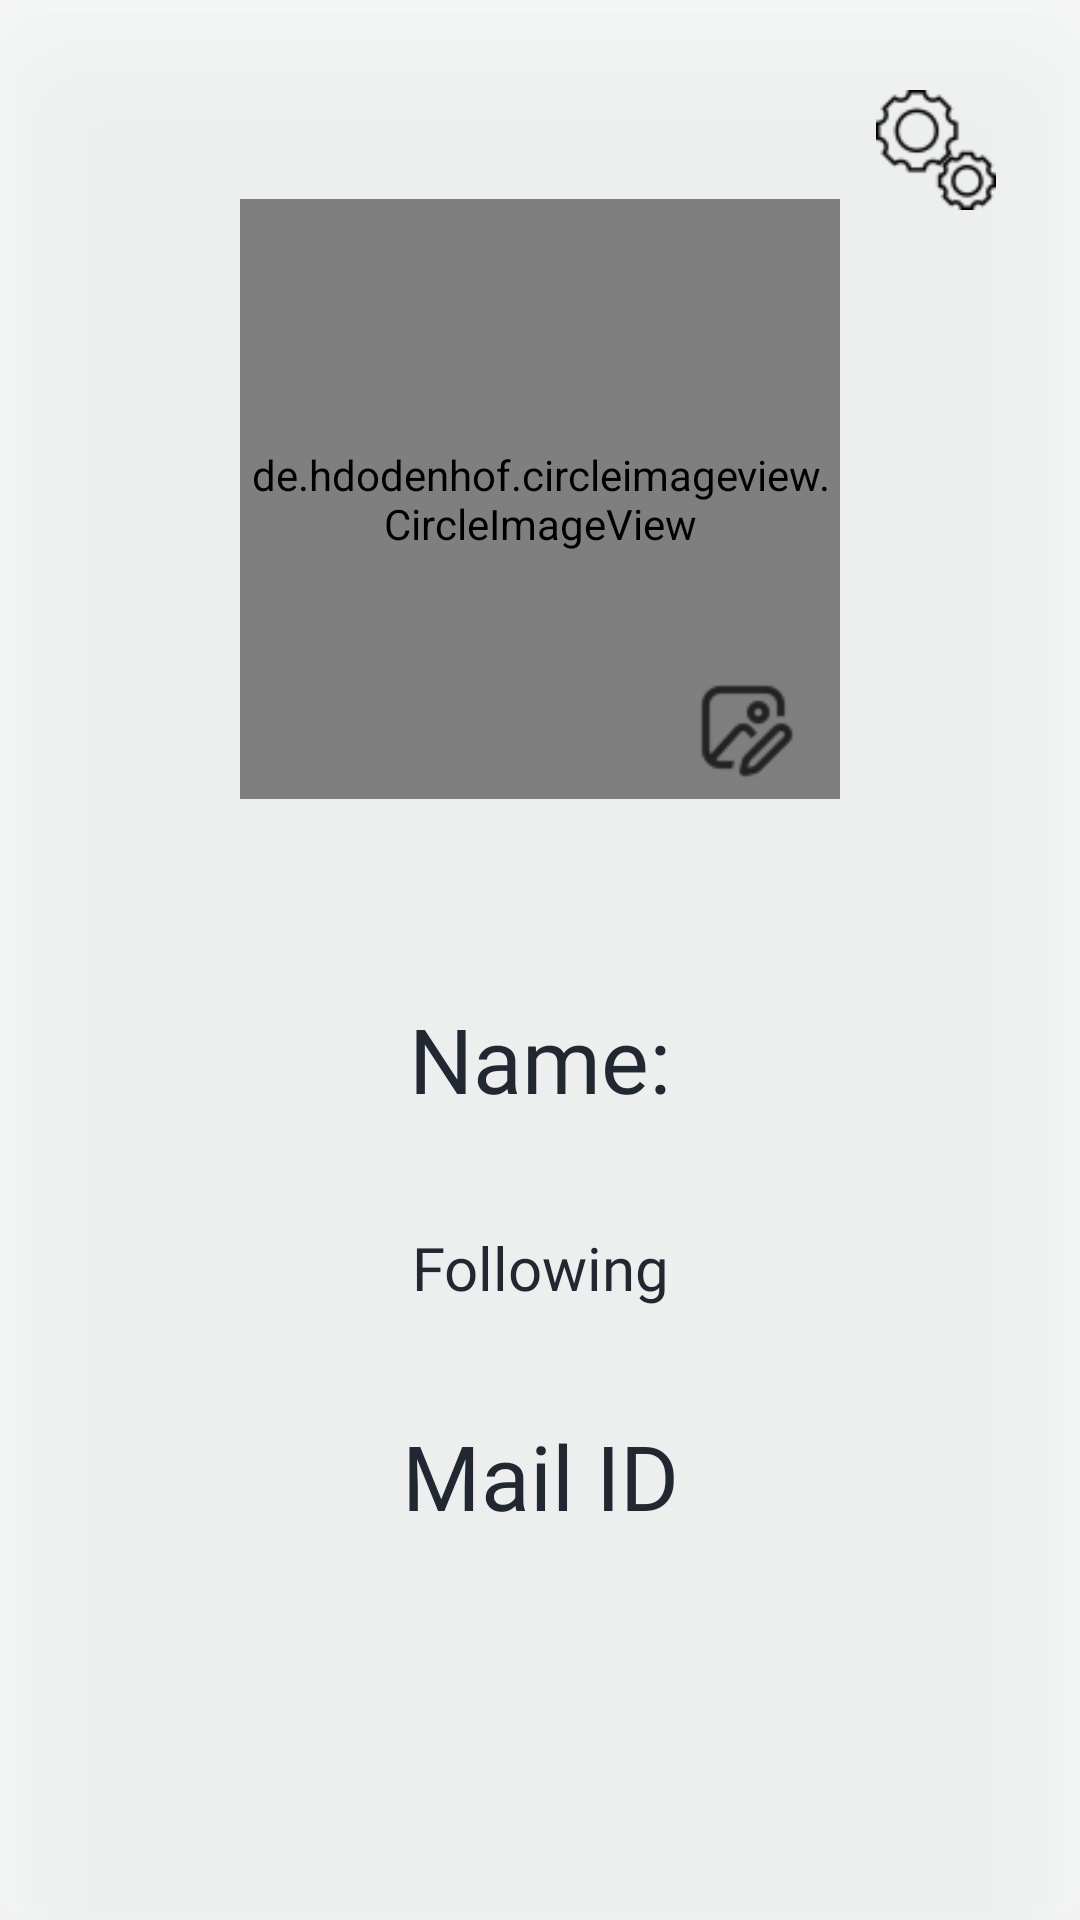

Icons on this 1080 x 1920 Android screen, each with the point to tap as point (x, y):
edit: point (747, 731)
settings: point (936, 150)
